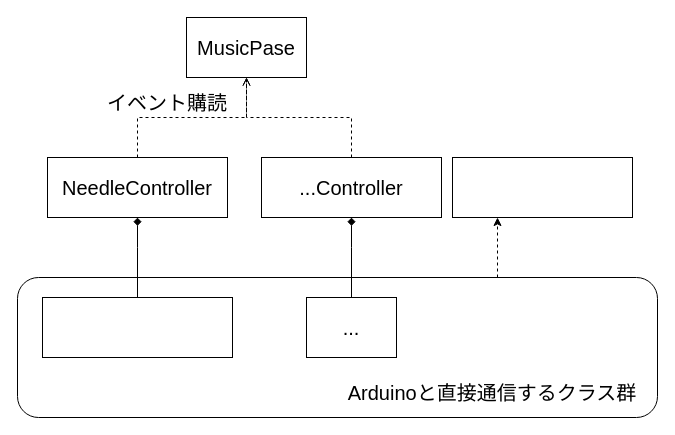
Some shapes in this 675 by 435 pixel diagram are drawn without their labels. The centre of each missing label's shape, as x and y in pixels:
"MessageSender" goes at (x=137, y=327).
"SenderUtilityPro" goes at (x=542, y=187).
